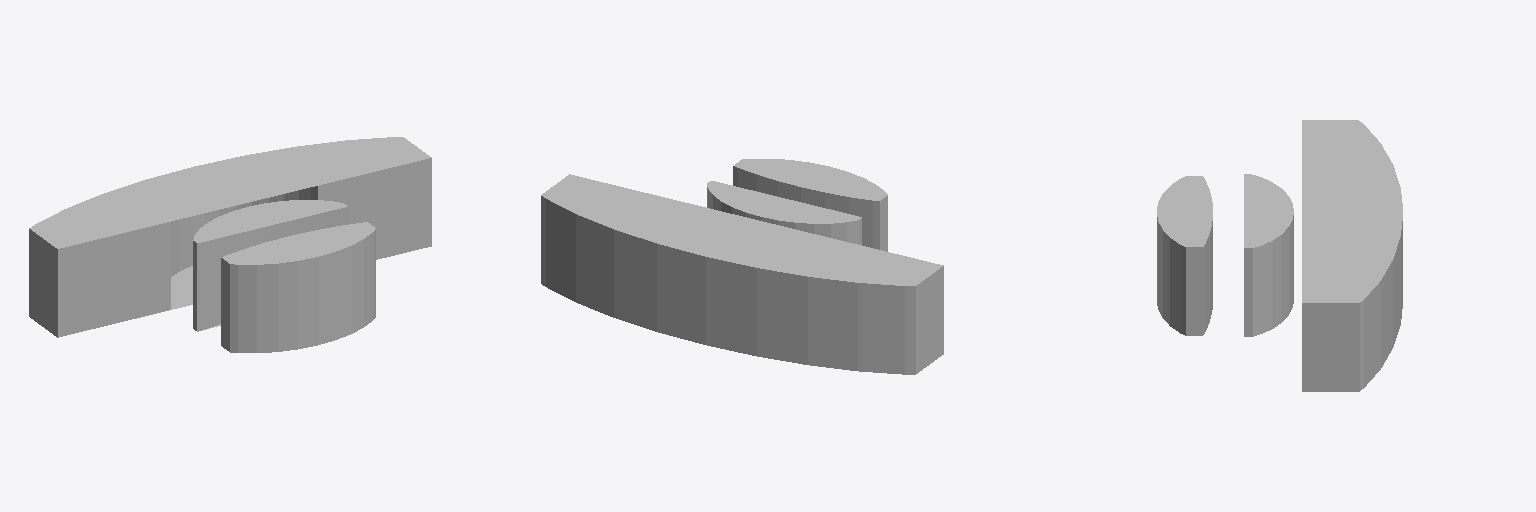
The model's file is fish_eye_lens.obj.
The picture shows the model from 3 angles: view 1: azimuth 30°, elevation 25°; view 2: azimuth 150°, elevation 25°; view 3: azimuth 270°, elevation 25°; orthographic projection.
Visible parts, largest first — view 1: Cylinder, Cylinder.002_Cylinder.007, Cylinder.001_Cylinder.005; view 2: Cylinder, Cylinder.002_Cylinder.007, Cylinder.001_Cylinder.005; view 3: Cylinder, Cylinder.002_Cylinder.007, Cylinder.001_Cylinder.005.
Boxes of the visible parts, box(x1,y1,x2,y2) form: Cylinder: box(29, 137, 431, 337); Cylinder.002_Cylinder.007: box(221, 222, 375, 352); Cylinder.001_Cylinder.005: box(193, 200, 348, 331); Cylinder: box(541, 174, 943, 374); Cylinder.002_Cylinder.007: box(733, 159, 887, 251); Cylinder.001_Cylinder.005: box(707, 181, 861, 244); Cylinder: box(1302, 120, 1402, 391); Cylinder.002_Cylinder.007: box(1157, 176, 1212, 335); Cylinder.001_Cylinder.005: box(1244, 174, 1293, 336).
Size of the model in its own units: 8.85 by 2 by 5.05.